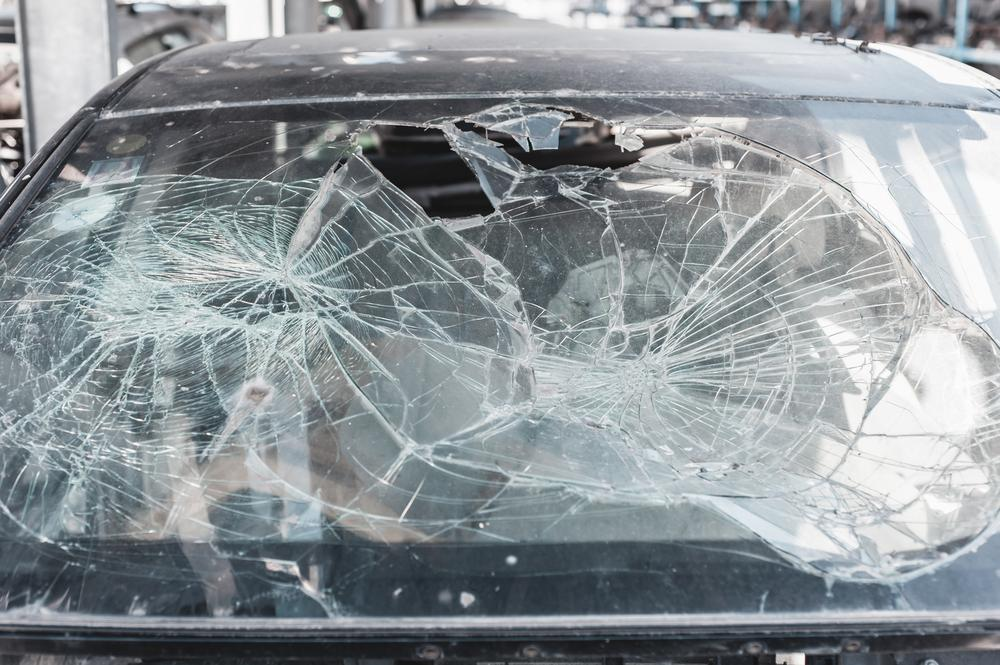glass shatter: (0, 97, 1000, 630)
